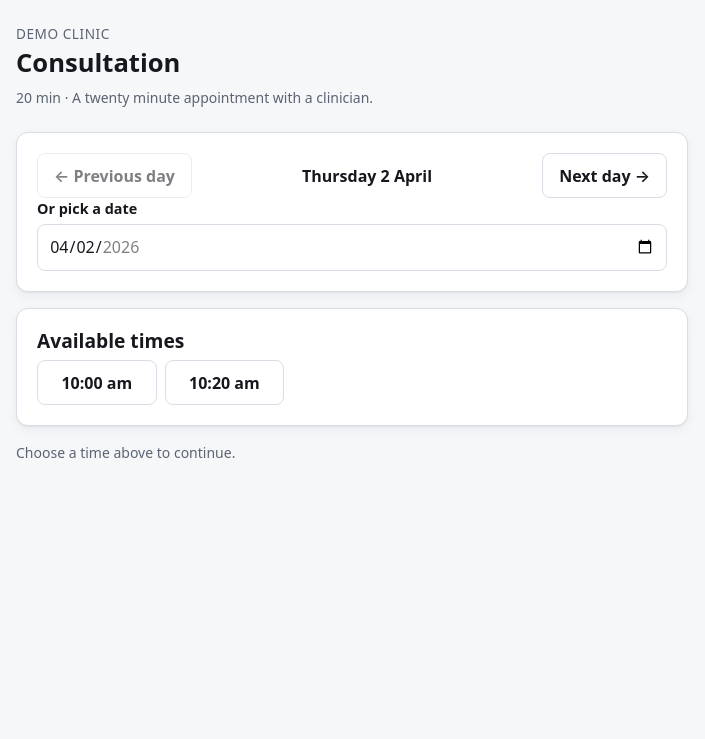
Test case: BookPage › names the booking on the submit button, so nobody books the wrong hour
The image size is (705, 739).
Click the button "10:20 am" at [224, 383], box [165,360,284,405]
(page scrolled)
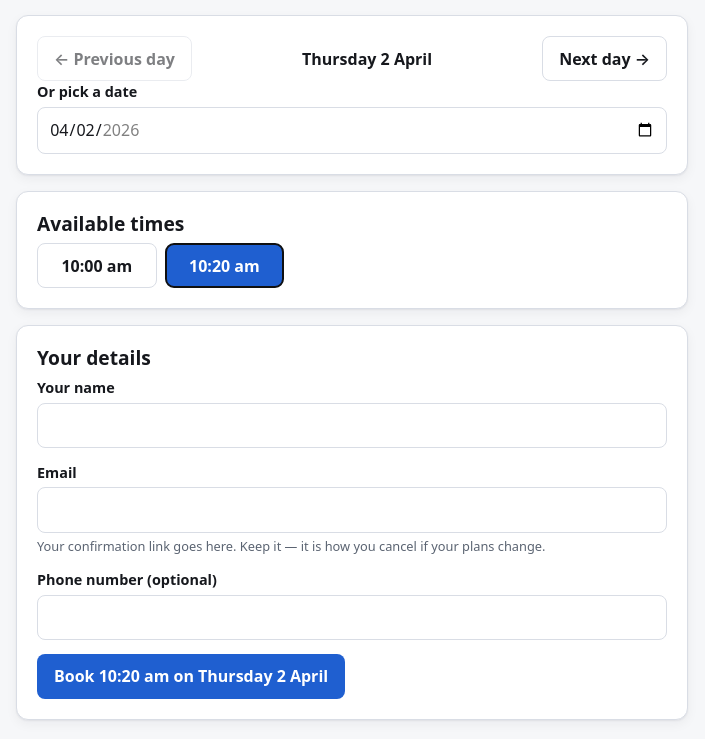
Expected: the button "Book 10:20 am on Thursday 2 April" is shown, [37,654,345,699]
